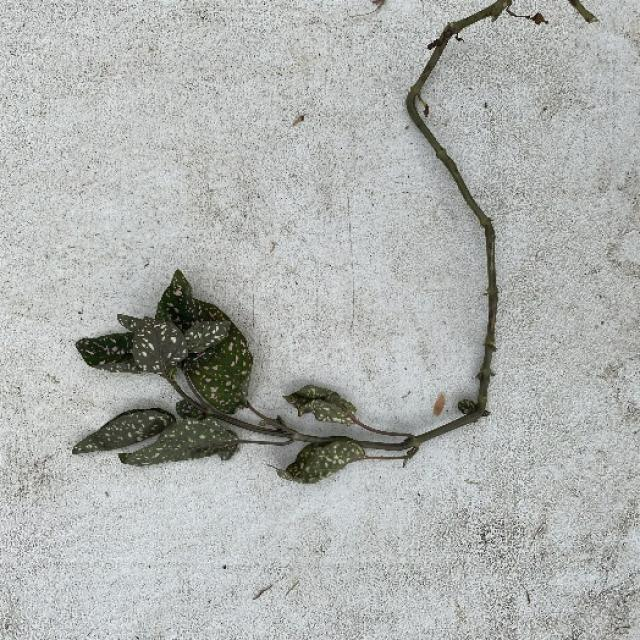organik: (89, 0, 527, 519)
